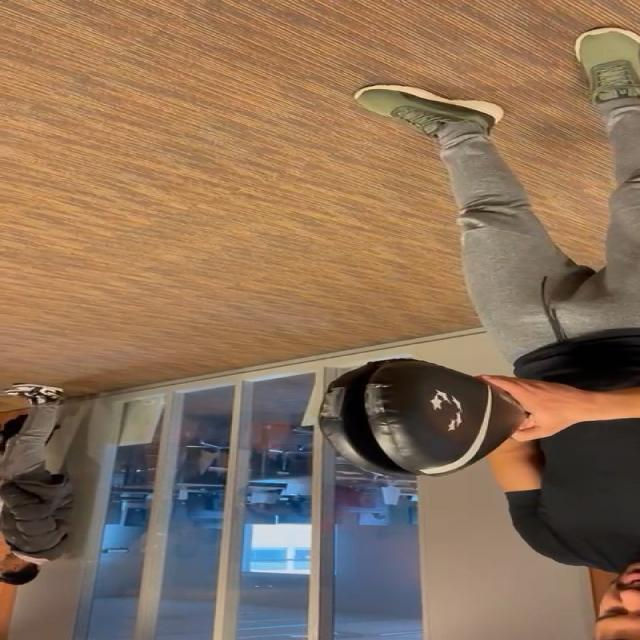paddle: (322, 362, 518, 477)
